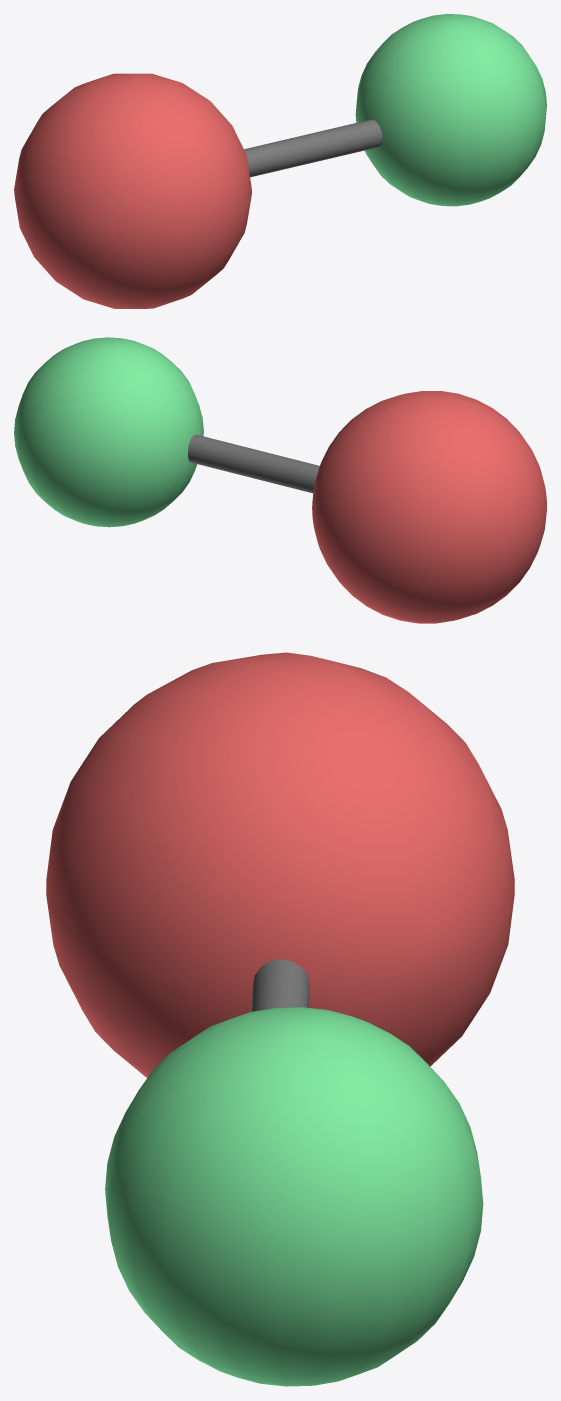
The picture shows the model from 3 angles, top to bottom: view 1: azimuth 30°, elevation 25°; view 2: azimuth 150°, elevation 25°; view 3: azimuth 270°, elevation 25°; orthographic projection. The views are drawn at different scales.
Parts seen in each view (by area): view 1: BP; view 2: BP; view 3: BP.
Part boxes in pixels (x1=…): BP: x1=14, y1=14, x2=546, y2=308; BP: x1=14, y1=337, x2=546, y2=623; BP: x1=46, y1=652, x2=514, y2=1386.
Bounding box in the file's own units: 6.57 × 2.67 × 2.67.
